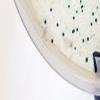Blue_green: (83, 55, 89, 64), (50, 38, 55, 45), (90, 11, 95, 18), (61, 32, 66, 38), (86, 36, 91, 42), (90, 21, 94, 28), (94, 17, 98, 24), (43, 20, 48, 25), (71, 28, 75, 34), (80, 38, 84, 44), (75, 9, 79, 15), (56, 23, 60, 28), (80, 9, 84, 14), (80, 5, 84, 9), (79, 0, 83, 4), (49, 8, 52, 13), (68, 4, 71, 9), (76, 27, 79, 32), (73, 16, 76, 20)
